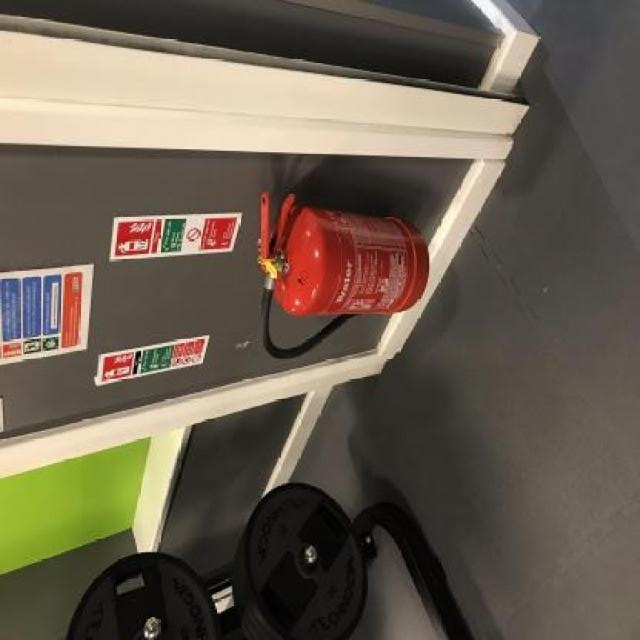fire extinguisher: (257, 190, 431, 362)
